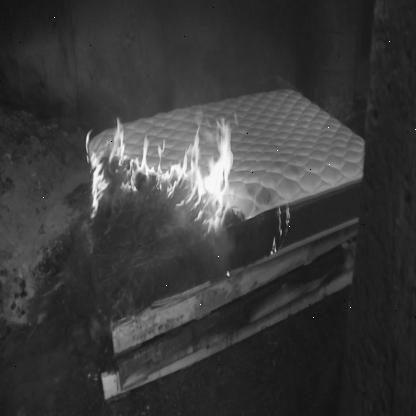fire: (79, 110, 238, 239)
